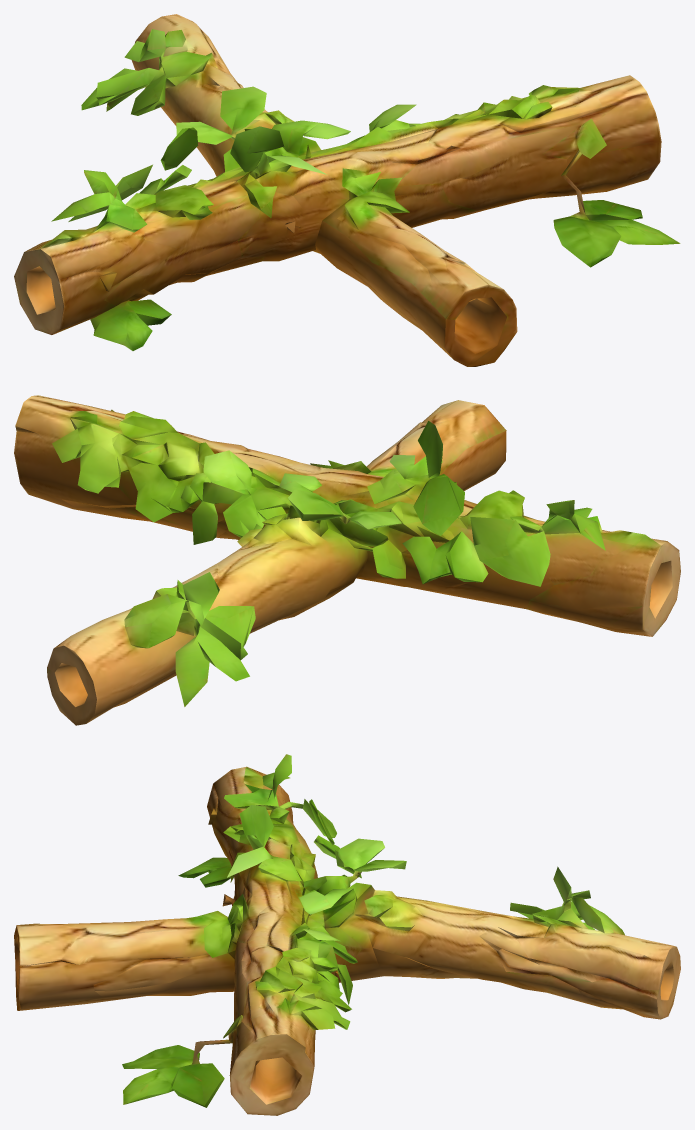
File: m2BranchPlatformV2.glb
The picture shows the model from 3 angles, top to bottom: view 1: azimuth 30°, elevation 25°; view 2: azimuth 150°, elevation 25°; view 3: azimuth 270°, elevation 25°; orthographic projection. The views are drawn at different scales.
Parts seen in each view (by area): view 1: model; view 2: model; view 3: model.
Part boxes in pixels (box(x1,y1,x2,y2)): model: box(14, 14, 680, 366); model: box(14, 395, 680, 725); model: box(14, 754, 680, 1115).
Size of the model in its own units: 1.88 by 0.4966 by 1.9.
1 material, 1 textured.
